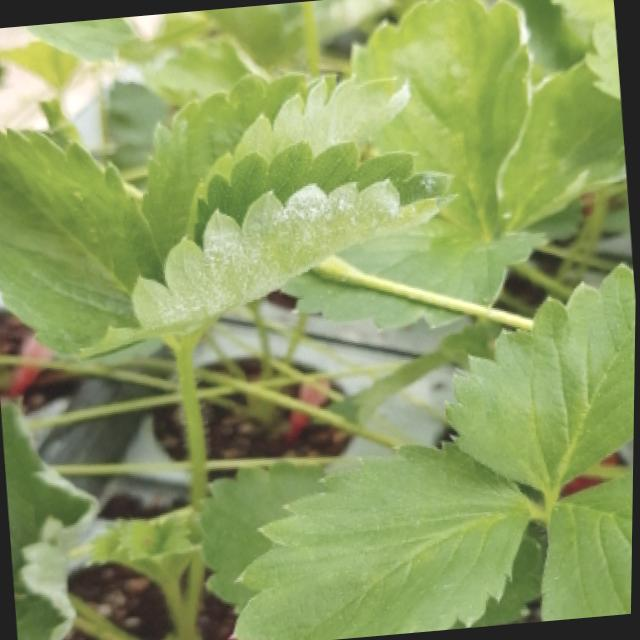Powdery Mildew Leaf: (131, 139, 461, 334)
